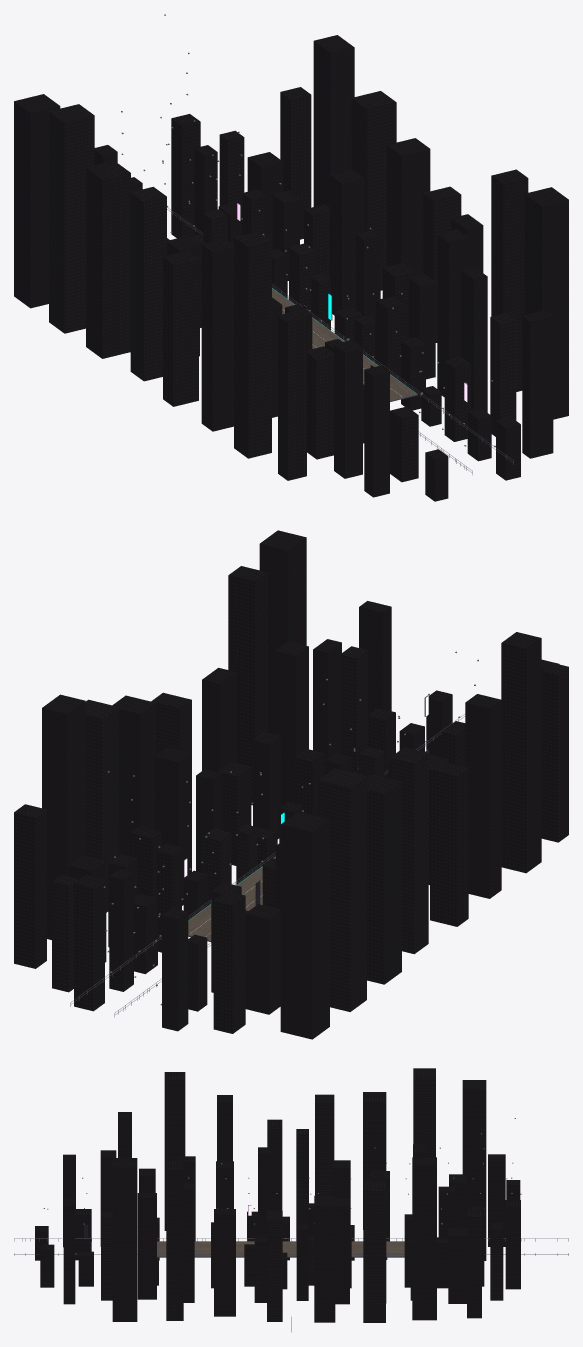
File: environment.glb
The picture shows the model from 3 angles, top to bottom: view 1: azimuth 30°, elevation 25°; view 2: azimuth 150°, elevation 25°; view 3: azimuth 270°, elevation 25°; orthographic projection. The views are drawn at different scales.
Parts seen in each view (by area): view 1: BldgL3_6, BldgL3_5, BldgL3_1, BldgL3_7, BldgR3_0, BldgL3_4, BldgL3_2, BldgR3_6, BldgR3_1, BldgL3_3, BldgR3_4, BldgR3_5 (+38 smaller); view 2: BldgL3_7, BldgL3_1, BldgL3_6, BldgR3_6, BldgL3_5, BldgL3_2, BldgR3_1, BldgL3_3, BldgL3_4, BldgR3_5, BldgR3_7, BldgR3_0 (+36 smaller); view 3: BldgR3_0, BldgR3_6, BldgR3_5, BldgL3_7, BldgR3_1, BldgR3_4, BldgR3_2, BldgL3_1, BldgR2_2, BldgL3_5, BldgL3_4, BldgL3_6 (+35 smaller).
Boxes of the visible parts, left/top/right/bottom form: BldgL3_6: left=49, top=104, right=94, bottom=333; BldgL3_5: left=86, top=160, right=130, bottom=358; BldgL3_1: left=234, top=231, right=271, bottom=458; BldgL3_7: left=14, top=94, right=60, bottom=308; BldgR3_0: left=524, top=187, right=568, bottom=419; BldgL3_4: left=130, top=186, right=166, bottom=381; BldgL3_2: left=201, top=238, right=233, bottom=431; BldgR3_6: left=313, top=35, right=354, bottom=207; BldgR3_1: left=491, top=169, right=528, bottom=391; BldgL3_3: left=163, top=250, right=198, bottom=406; BldgR3_4: left=387, top=138, right=430, bottom=276; BldgR3_5: left=351, top=91, right=396, bottom=290; BldgL3_7: left=280, top=811, right=329, bottom=1039; BldgL3_1: left=501, top=632, right=541, bottom=873; BldgL3_6: left=318, top=768, right=366, bottom=1011; BldgR3_6: left=42, top=694, right=85, bottom=939; BldgL3_5: left=367, top=774, right=401, bottom=984; BldgL3_2: left=465, top=694, right=501, bottom=898; BldgR3_1: left=228, top=566, right=267, bottom=805; BldgL3_3: left=430, top=761, right=468, bottom=926; BldgL3_4: left=390, top=747, right=428, bottom=954; BldgR3_5: left=85, top=699, right=119, bottom=912; BldgR3_7: left=14, top=804, right=46, bottom=968; BldgR3_0: left=259, top=530, right=306, bottom=734; BldgR3_0: left=112, top=1158, right=137, bottom=1321; BldgR3_6: left=412, top=1157, right=436, bottom=1320; BldgR3_5: left=363, top=1180, right=385, bottom=1322; BldgL3_7: left=462, top=1080, right=486, bottom=1227; BldgR3_1: left=166, top=1161, right=183, bottom=1320; BldgR3_4: left=314, top=1195, right=335, bottom=1322; BldgR3_2: left=214, top=1209, right=235, bottom=1316; BldgL3_1: left=164, top=1072, right=185, bottom=1230; BldgR2_2: left=137, top=1193, right=156, bottom=1299; BldgL3_5: left=363, top=1092, right=386, bottom=1229; BldgL3_4: left=315, top=1094, right=334, bottom=1195; BldgL3_6: left=413, top=1068, right=435, bottom=1157.
Size of the model in its own units: 96.56 by 64.03 by 200.
16 materials, 5 textured.
